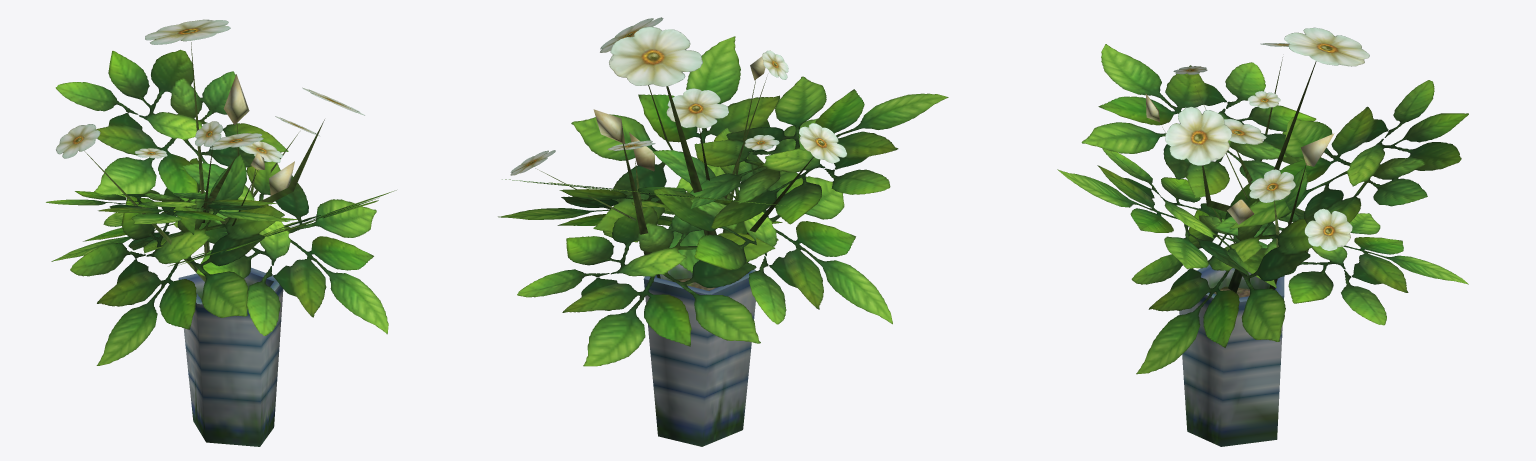
Rendered from wm_灌木盆栽15.fbx.
3 renders of one model, left to right at view 1: azimuth 30°, elevation 25°; view 2: azimuth 150°, elevation 25°; view 3: azimuth 270°, elevation 25°, orthographic. The views are drawn at different scales.
Parts seen in each view (by area): view 1: wm_灌木盆栽15; view 2: wm_灌木盆栽15; view 3: wm_灌木盆栽15.
Part boxes in pixels (x1,y1,x2,y2): wm_灌木盆栽15: (46, 19, 396, 446); wm_灌木盆栽15: (498, 17, 948, 446); wm_灌木盆栽15: (1057, 27, 1468, 446).
Size of the model in its own units: 154 by 139 by 160.
